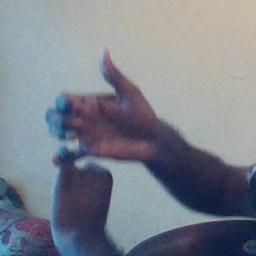S: (45, 44, 152, 214)
